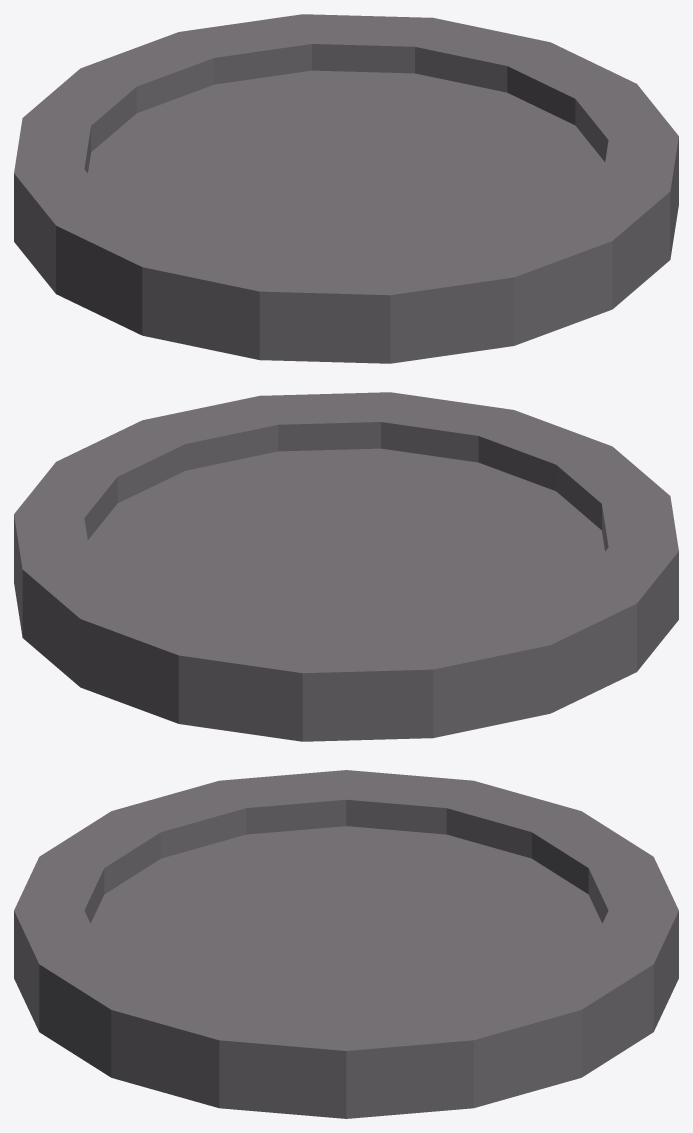
The model's file is coin02.obj.
3 views of the same model, one above another, from view 1: azimuth 30°, elevation 25°; view 2: azimuth 150°, elevation 25°; view 3: azimuth 270°, elevation 25° (orthographic).
Parts seen in each view (by area): view 1: Cylinder_Cylinder.002; view 2: Cylinder_Cylinder.002; view 3: Cylinder_Cylinder.002.
Boxes of the visible parts, left/top/right/bottom form: Cylinder_Cylinder.002: left=14, top=14, right=678, bottom=363; Cylinder_Cylinder.002: left=14, top=392, right=678, bottom=741; Cylinder_Cylinder.002: left=14, top=770, right=678, bottom=1118.
Size of the model in its own units: 0.04 by 0.00451 by 0.04.
